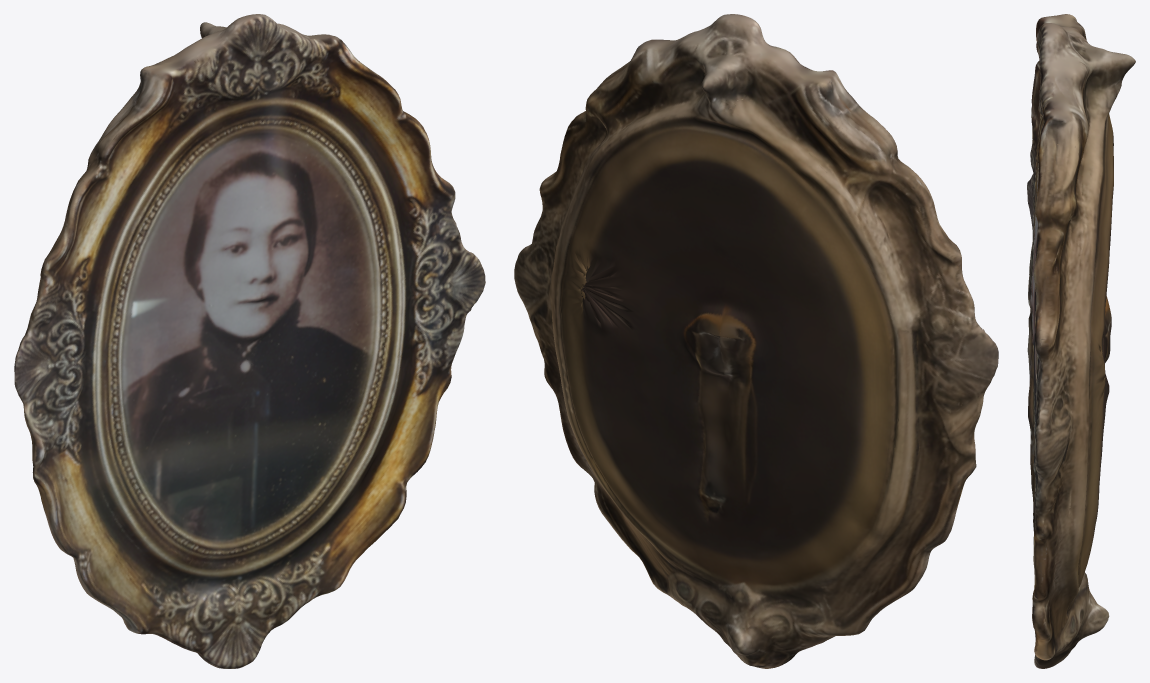
The model's file is portrait.glb.
3 views of the same model, side by side, from view 1: azimuth 30°, elevation 25°; view 2: azimuth 150°, elevation 25°; view 3: azimuth 270°, elevation 25° (orthographic).
Parts seen in each view (by area): view 1: Retopo_model; view 2: Retopo_model; view 3: Retopo_model.
Boxes of the visible parts, x1,y1,x2,y2 form: Retopo_model: (14,14,485,668); Retopo_model: (514,14,998,668); Retopo_model: (1027,14,1135,668).
Size of the model in its own units: 0.8155 by 1.06 by 0.1606.
Materials: 1 (1 with a texture image).
